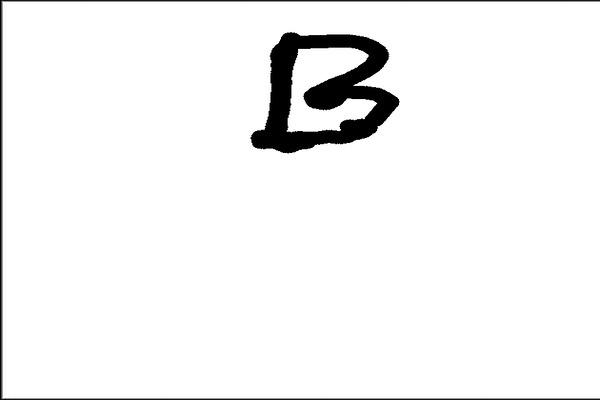B: (243, 23, 409, 161)
